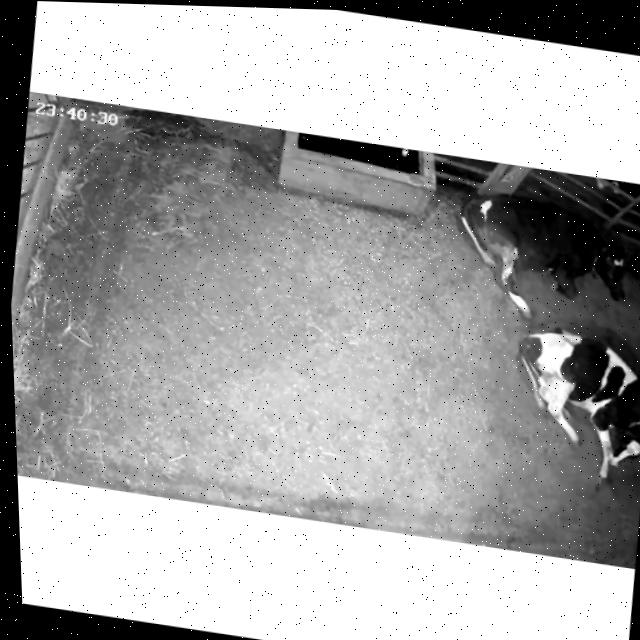lay: (440, 172, 640, 336), (493, 318, 640, 481)
